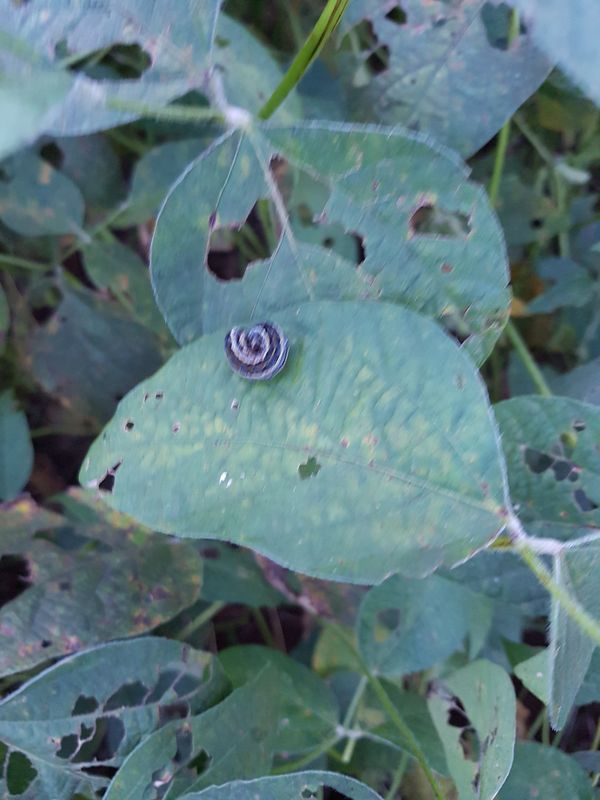Spodoptera_albula: (208, 306, 302, 396)
